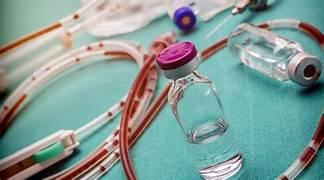Iv_Bottle: (156, 42, 242, 178), (228, 23, 321, 85), (86, 0, 165, 36), (166, 0, 236, 31)
